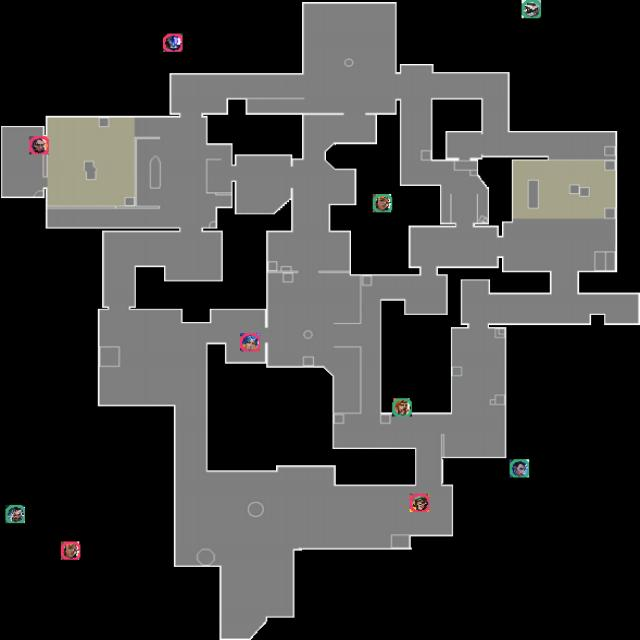atk_kayo: (163, 33, 183, 52)
atk_killjoy: (410, 494, 429, 512)
atk_neon: (240, 333, 260, 352)
atk_raze: (61, 541, 80, 560)
atk_reyna: (29, 136, 49, 155)
def_brimstone: (392, 398, 412, 417)
def_cypher: (521, 0, 541, 18)
def_fade: (5, 505, 25, 523)
def_raze: (373, 194, 392, 212)
def_yoru: (510, 459, 529, 478)
